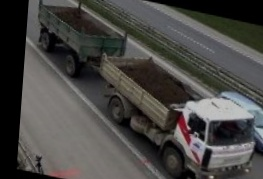truck: (16, 0, 263, 179)
